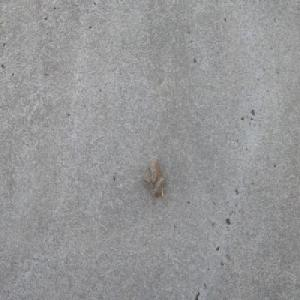Rock: (140, 156, 164, 199)
